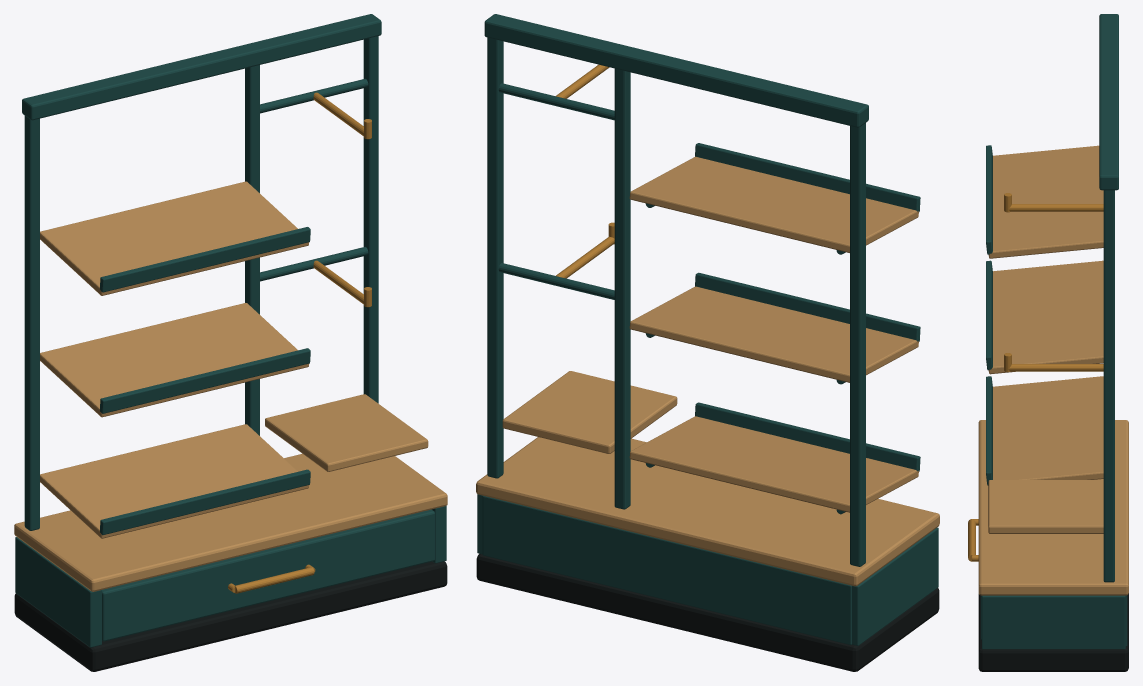
The picture shows the model from 3 angles, left to right: view 1: azimuth 30°, elevation 25°; view 2: azimuth 150°, elevation 25°; view 3: azimuth 270°, elevation 25°; orthographic projection. The views are drawn at different scales.
Parts seen in each view (by area): view 1: BASE_Cap, DRAWER_Front, SHOE_Shelf_03, SHOE_Shelf_01, SHOE_Shelf_02, BASE_Plinth, FRAME_Header, BAG_DisplayPad, FRAME_Upright, FRAME_Upright.002, BASE_Side.001, SHOE_Lip_01 (+7 smaller); view 2: BASE_Cap, BASE_Rear, SHOE_Shelf_01, SHOE_Shelf_02, SHOE_Shelf_03, BASE_Plinth, FRAME_Header, BAG_DisplayPad, FRAME_Upright.001, FRAME_Upright.002, FRAME_Upright, BASE_Side.001 (+5 smaller); view 3: BASE_Cap, SHOE_Shelf_02, SHOE_Shelf_01, SHOE_Shelf_03, BASE_Side, BAG_DisplayPad, FRAME_Upright.002, BASE_Plinth, FRAME_Header, SHOE_Lip_03, SHOE_Lip_02, BAG_Peg_01 (+3 smaller).
Boxes of the visible parts, x1,y1,x2,y2 form: BASE_Cap: (14,453,447,591); DRAWER_Front: (102,509,434,641); SHOE_Shelf_03: (40,181,309,295); SHOE_Shelf_01: (40,424,309,538); SHOE_Shelf_02: (40,303,308,417); BASE_Plinth: (14,561,447,671); FRAME_Header: (22,14,381,120); BAG_DisplayPad: (265,394,428,471); FRAME_Upright: (24,116,39,530); FRAME_Upright.002: (363,36,378,403); BASE_Side.001: (15,537,101,647); SHOE_Lip_01: (100,469,310,535); BASE_Cap: (476,437,939,586); BASE_Rear: (482,495,851,644); SHOE_Shelf_01: (629,416,918,512); SHOE_Shelf_02: (629,286,918,382); SHOE_Shelf_03: (629,156,918,252); BASE_Plinth: (476,553,939,671); FRAME_Header: (484,14,868,127); BAG_DisplayPad: (502,371,677,453); FRAME_Upright.001: (614,68,630,509); FRAME_Upright.002: (487,37,503,478); FRAME_Upright: (850,123,865,566); BASE_Side.001: (852,527,938,645); BASE_Cap: (978,420,1128,595); SHOE_Shelf_02: (988,260,1103,374); SHOE_Shelf_01: (993,376,1103,479); SHOE_Shelf_03: (988,145,1103,258); BASE_Side: (982,595,1125,649); BAG_DisplayPad: (988,480,1103,533); FRAME_Upright.002: (1103,190,1114,582); BASE_Plinth: (978,593,1128,671); FRAME_Header: (1099,14,1118,190); SHOE_Lip_03: (986,145,992,254); SHOE_Lip_02: (986,260,992,370); BAG_Peg_01: (1008,364,1103,371).
Bounding box in the file's own units: 1.2 × 1.67 × 0.492.
